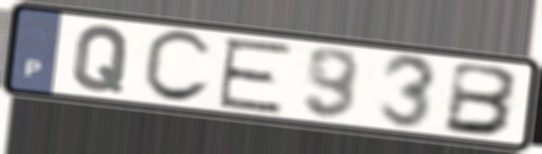3: (376, 50, 441, 135)
9: (301, 44, 359, 123)
B: (440, 59, 524, 139)
C: (138, 28, 216, 106)
E: (214, 36, 297, 116)
Q: (69, 23, 134, 96)
